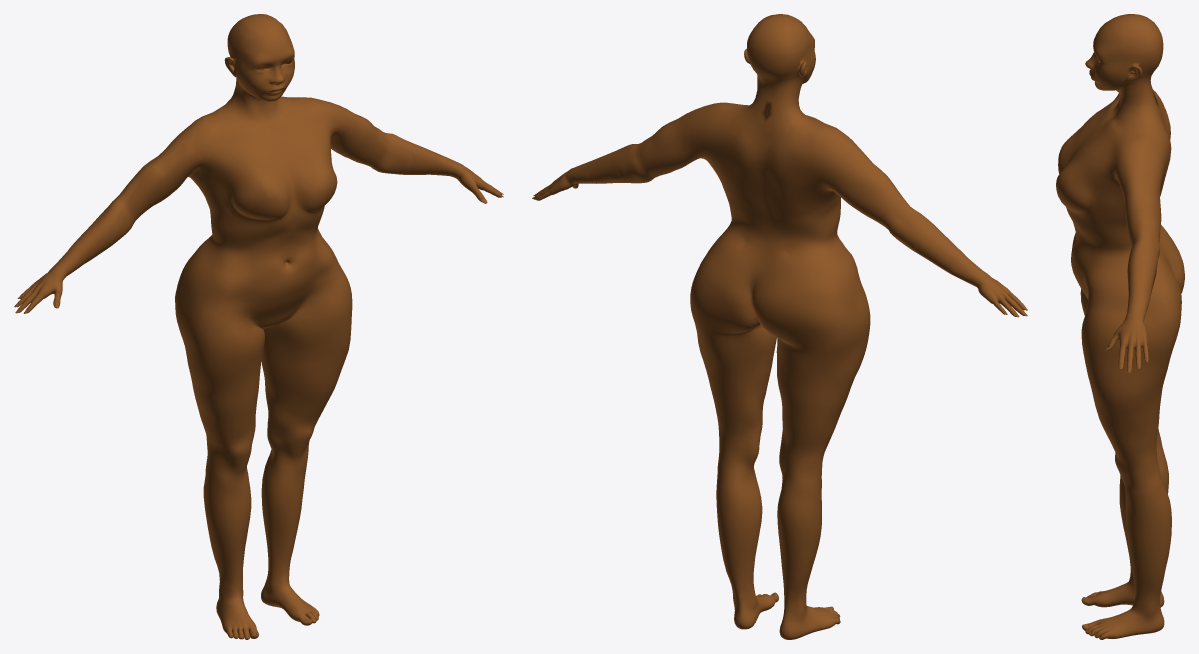
File: female_XL_5.glb
3 views of the same model, side by side, from view 1: azimuth 30°, elevation 25°; view 2: azimuth 150°, elevation 25°; view 3: azimuth 270°, elevation 25° (orthographic).
Parts seen in each view (by area): view 1: Body; view 2: Body; view 3: Body.
Boxes of the visible parts, bbox=[...] form: Body: bbox=[16, 14, 503, 639]; Body: bbox=[533, 14, 1024, 639]; Body: bbox=[1056, 14, 1184, 639].
Size of the model in its own units: 1.58 by 1.85 by 0.3591.
